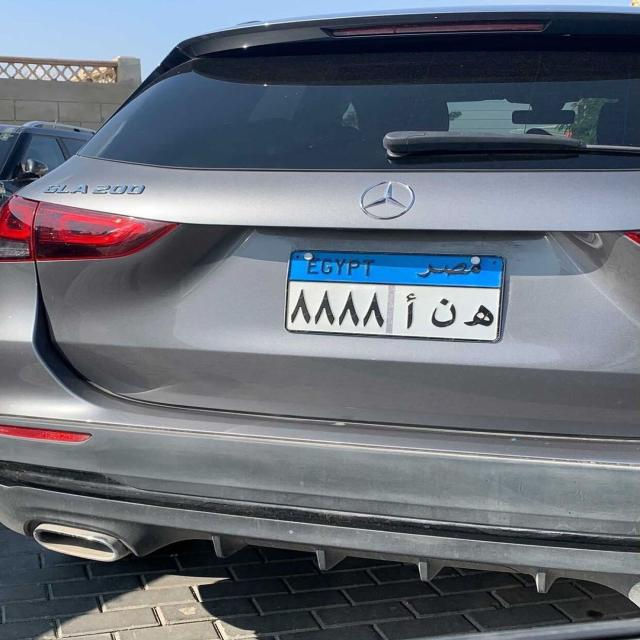License Plate: (281, 246, 511, 347)
